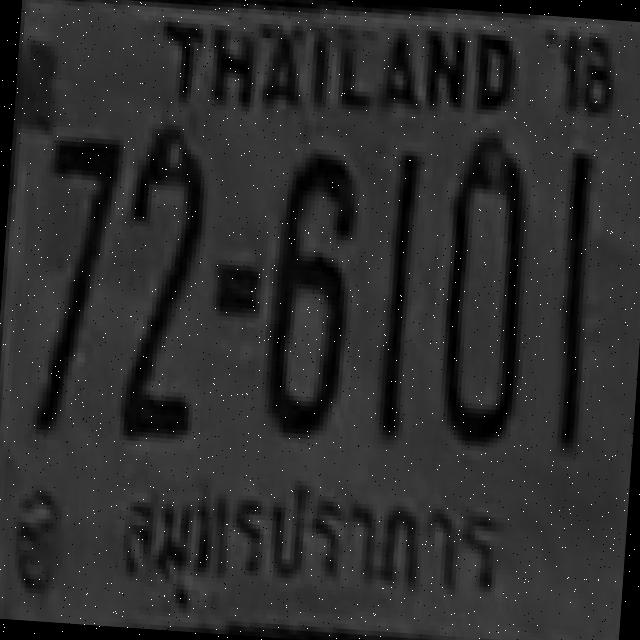1: (553, 150, 597, 376), (378, 152, 417, 373), (380, 148, 418, 354)
6: (258, 146, 358, 431)
7: (41, 128, 120, 300)
SamutPrakan: (99, 453, 518, 624)
